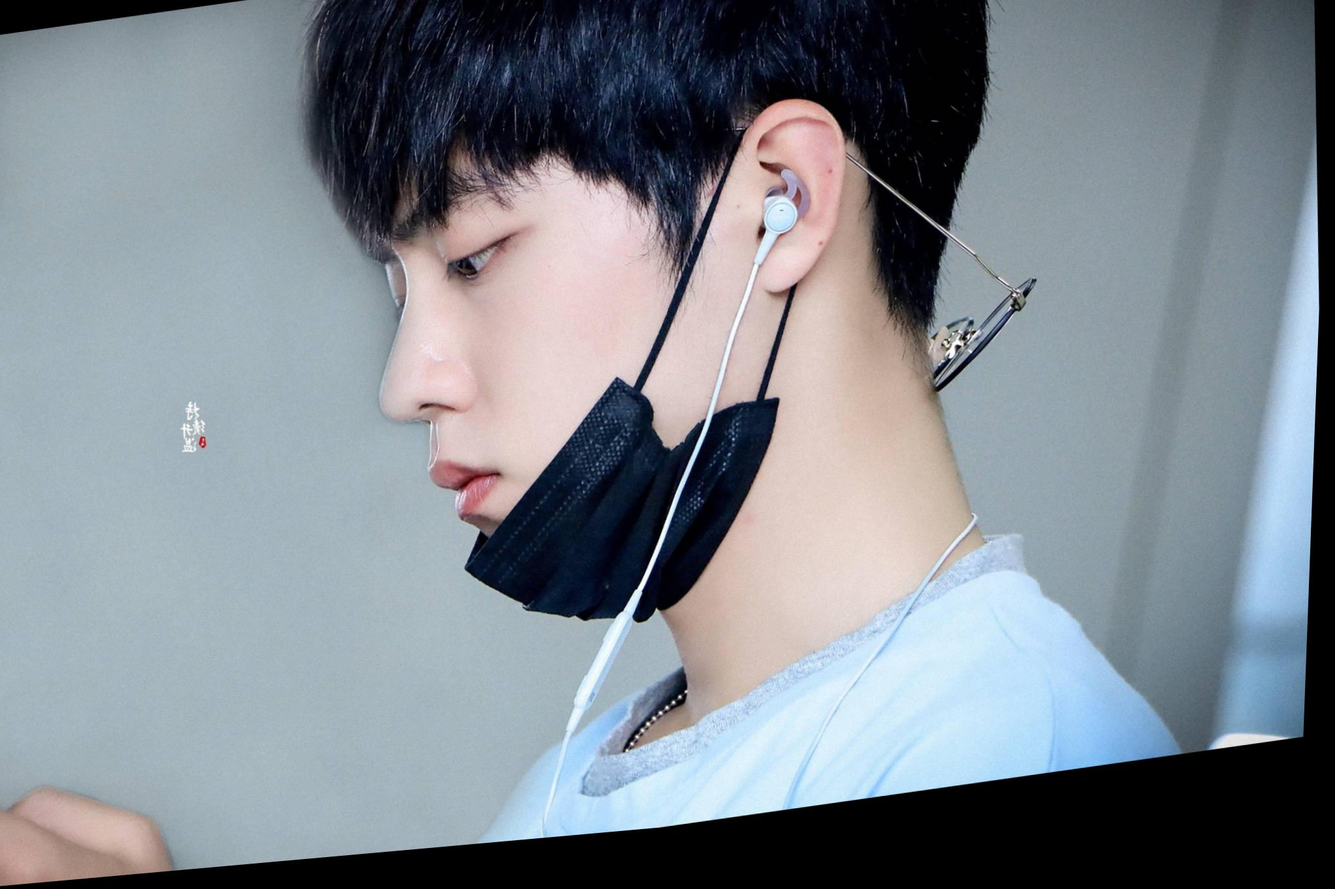WRONG: (346, 59, 728, 647)
